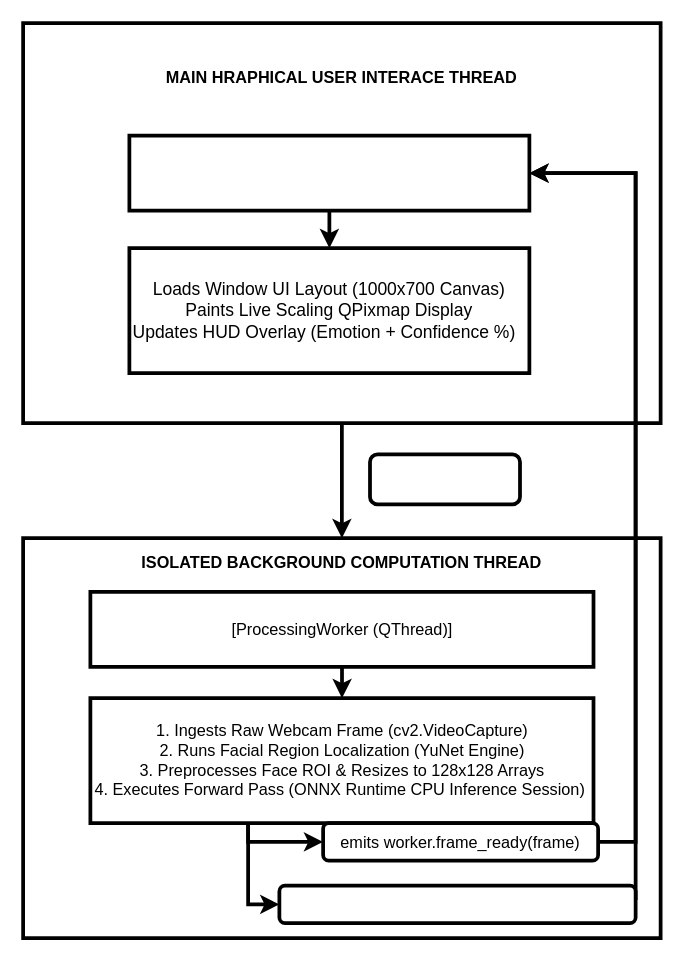
Image size: 684x961. Some labels were removed from this diagram. Each missing label, with the centre of its shape:
"(worker.start())" belongs at (444,479).
"emits worker.results_ready(emotion, confidence)" belongs at (457,903).
"MainWindow (PySide6)" belongs at (329,172).
